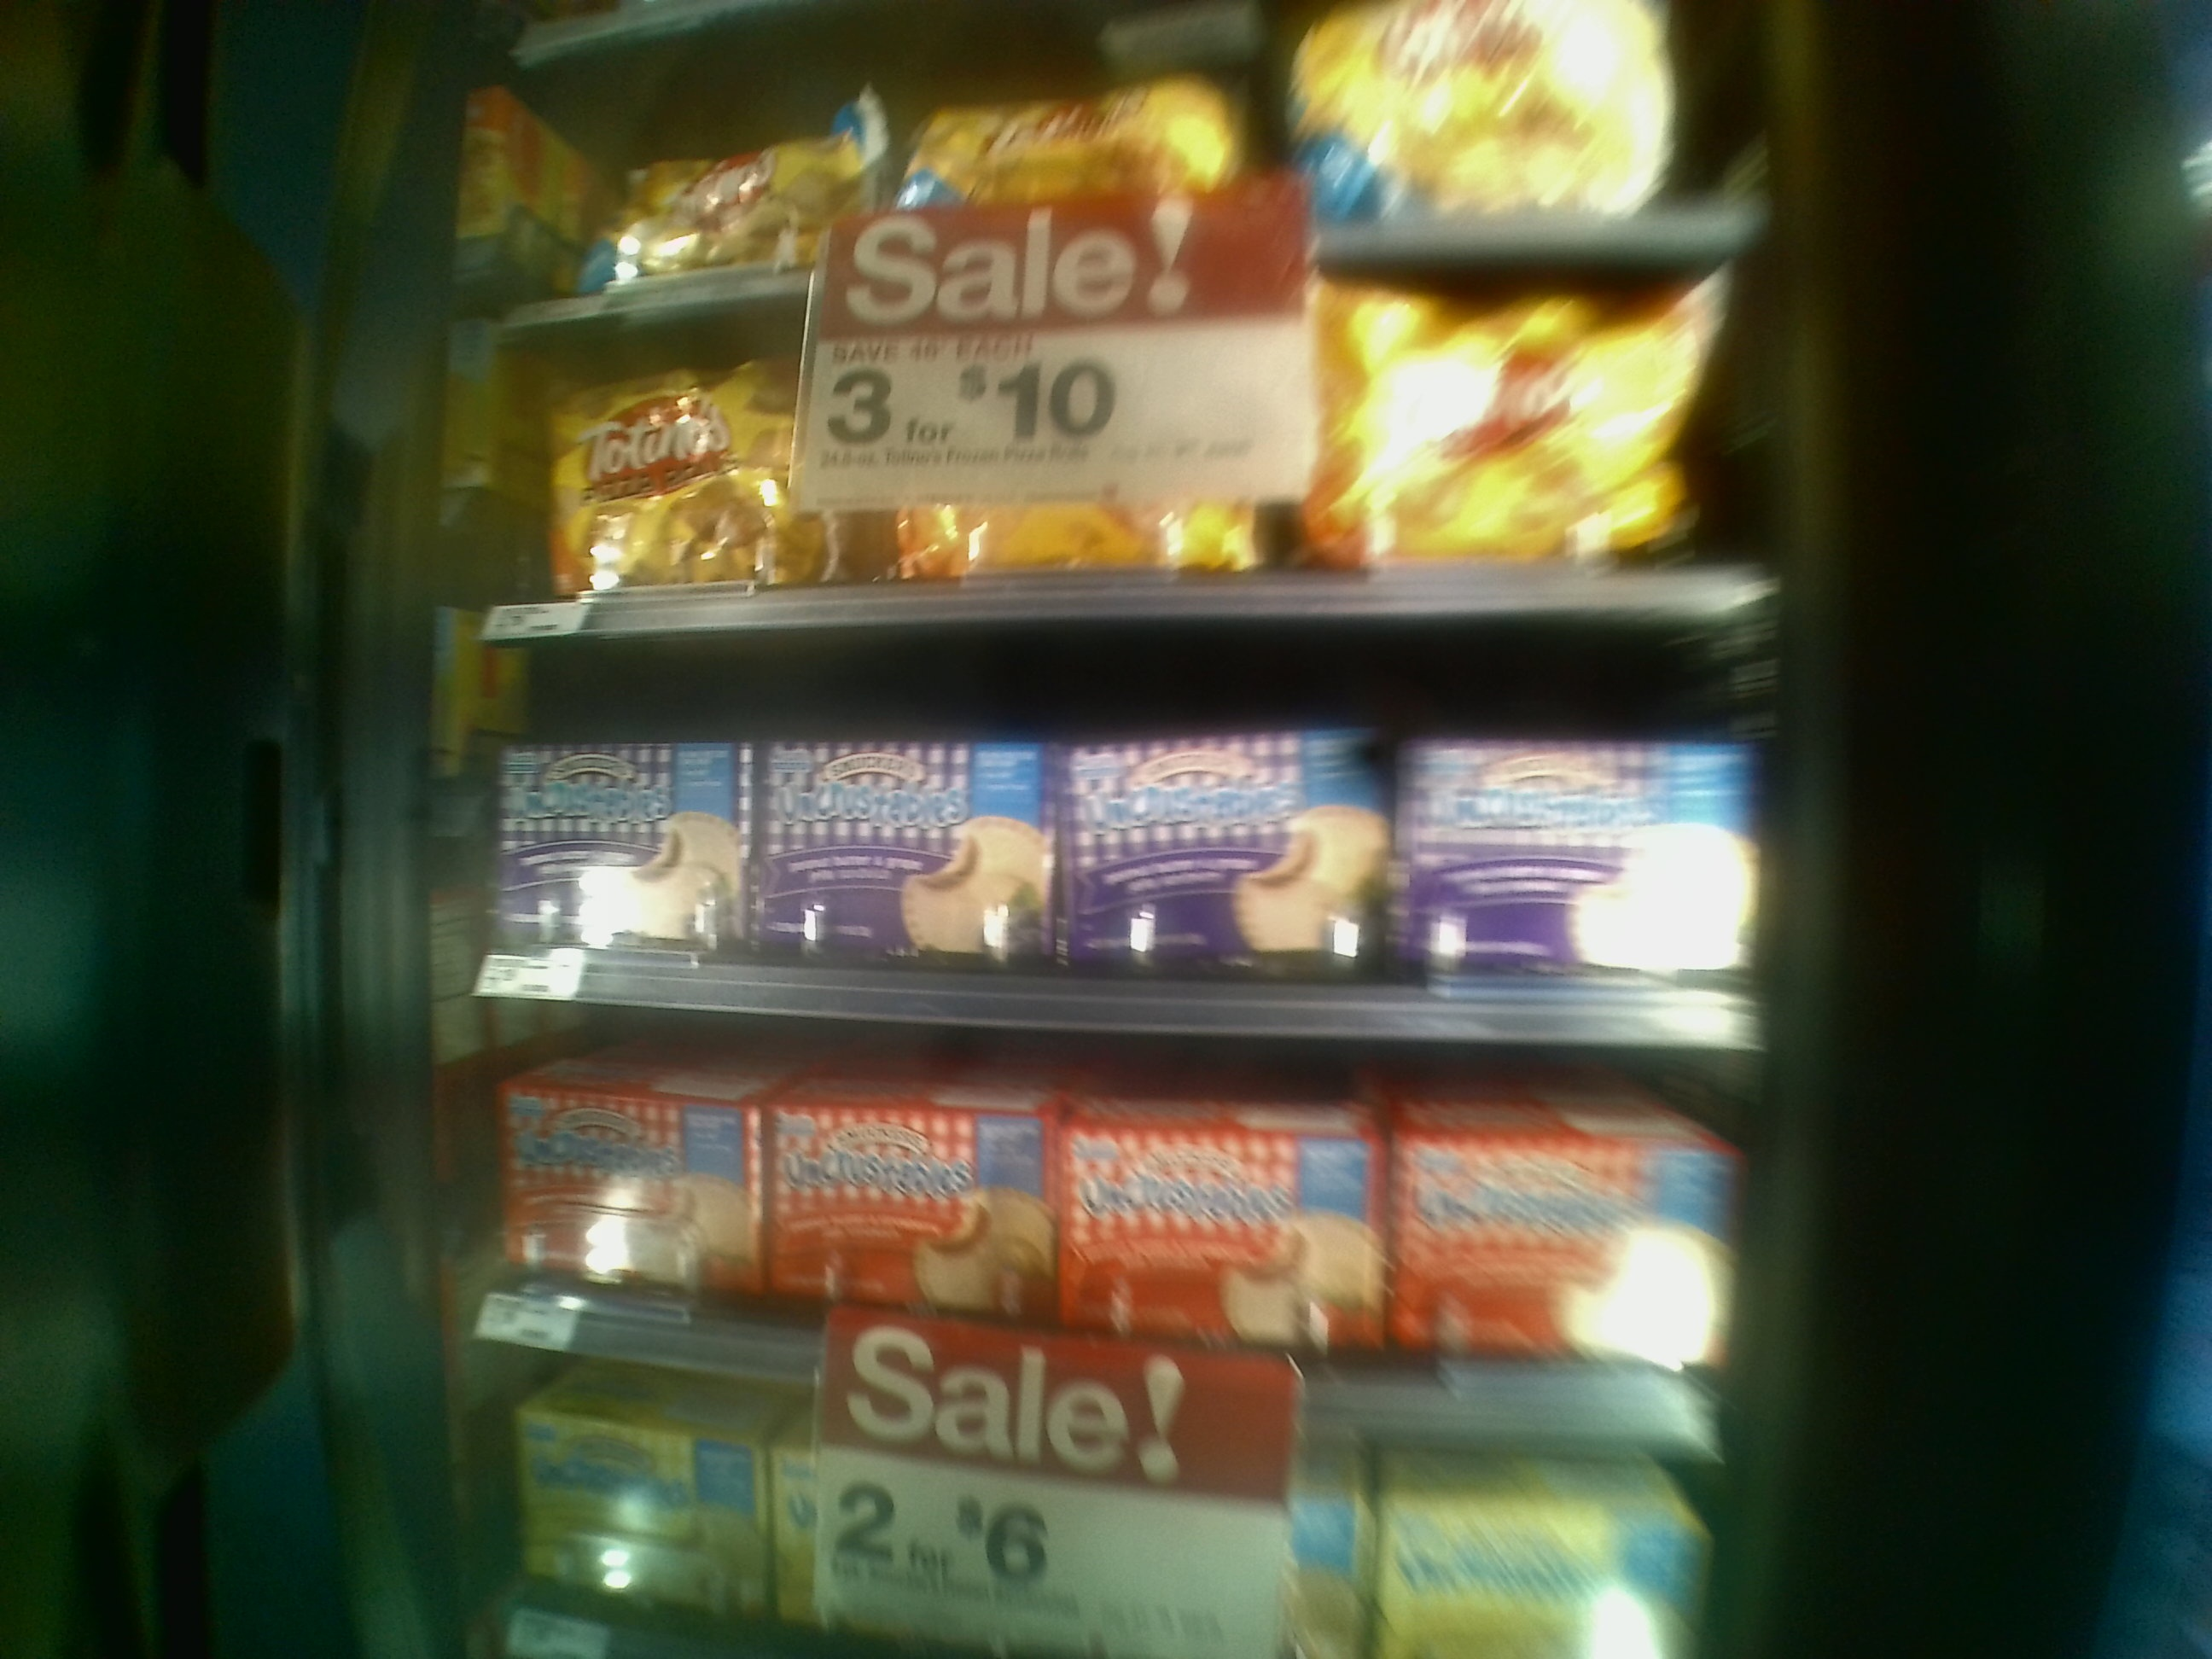shelf: (449, 1004, 1726, 1443), (467, 641, 1763, 1058), (472, 296, 1773, 620), (495, 52, 1737, 279)
